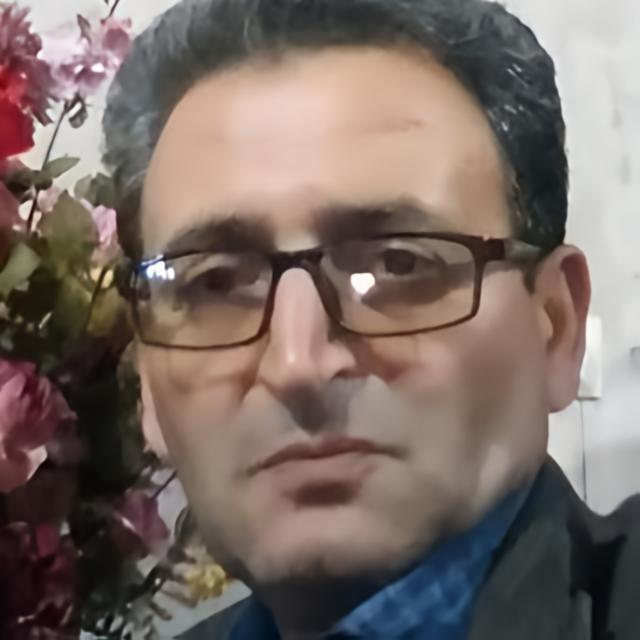sad: (137, 47, 530, 581)
